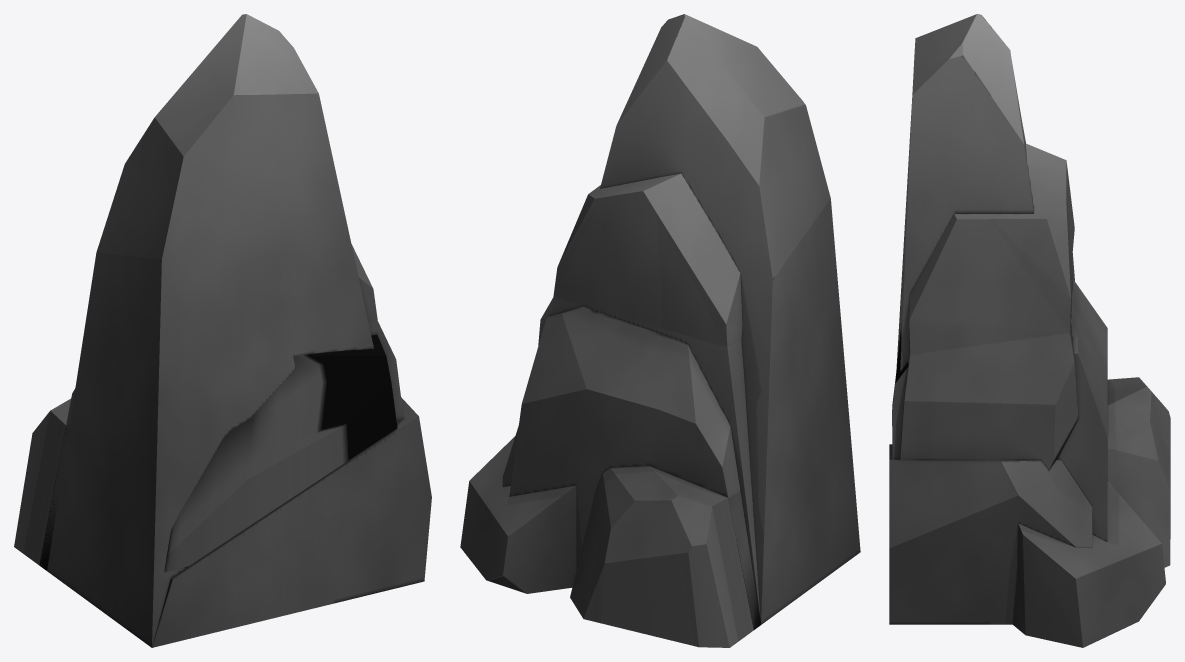
File: rock6.glb
3 views of the same model, side by side, from view 1: azimuth 30°, elevation 25°; view 2: azimuth 150°, elevation 25°; view 3: azimuth 270°, elevation 25° (orthographic). The views are drawn at different scales.
Visible parts, largest first — view 1: rock_big01.001; view 2: rock_big01.001; view 3: rock_big01.001.
Part boxes in pixels (x1=…): rock_big01.001: x1=14, y1=14, x2=431, y2=647; rock_big01.001: x1=460, y1=14, x2=860, y2=647; rock_big01.001: x1=889, y1=14, x2=1170, y2=647.
Bounding box in the file's own units: 0.907 × 1.53 × 0.7102.
1 material, 1 textured.
